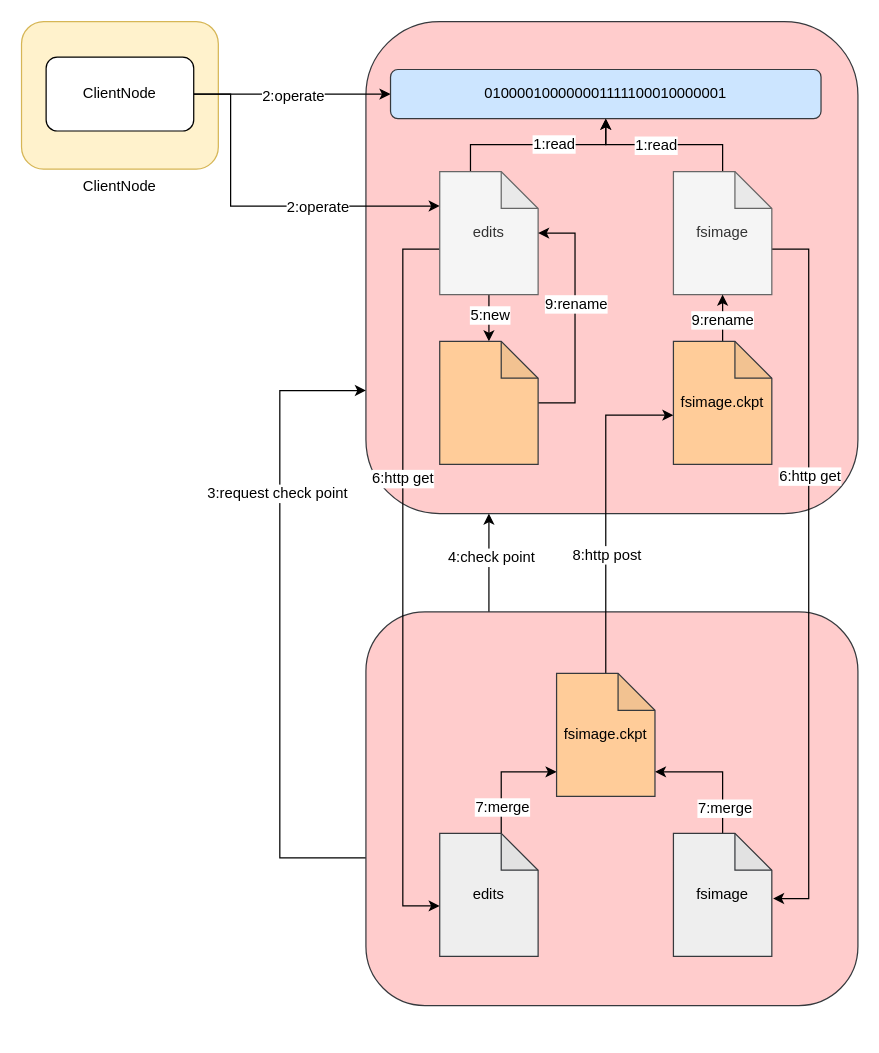
Some shapes in this 879 by 1053 pixel diagram are drawn without their labels. Here are the shapes that lost their labels. From the top down, the box of each, then its label:
(365, 20, 858, 514): NameNode
(438, 340, 538, 464): edits.new
(365, 611, 858, 1006): SecondNameNode
